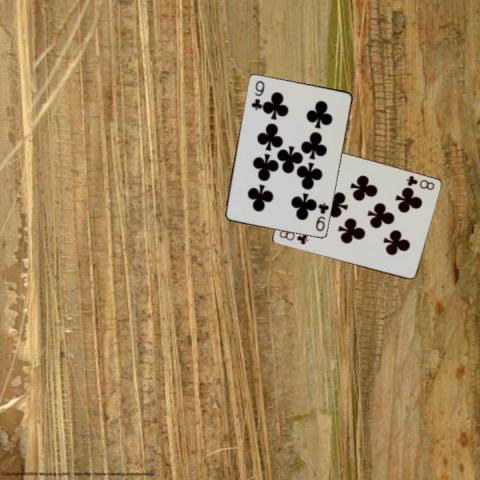8c: (276, 227, 309, 246), (404, 173, 436, 191)
9c: (248, 77, 265, 112), (313, 199, 330, 233)
